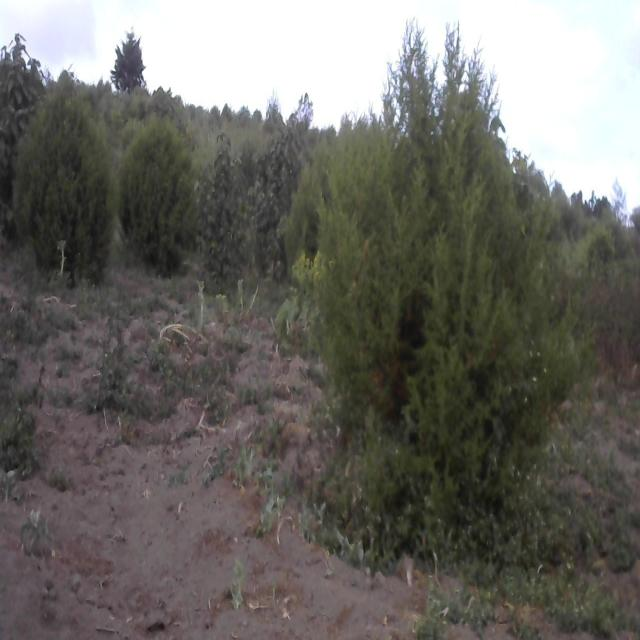cedrus: (314, 27, 575, 561), (14, 71, 114, 283), (120, 104, 203, 280), (111, 16, 149, 91)
other: (199, 130, 252, 284), (255, 112, 302, 280), (0, 32, 39, 184)
